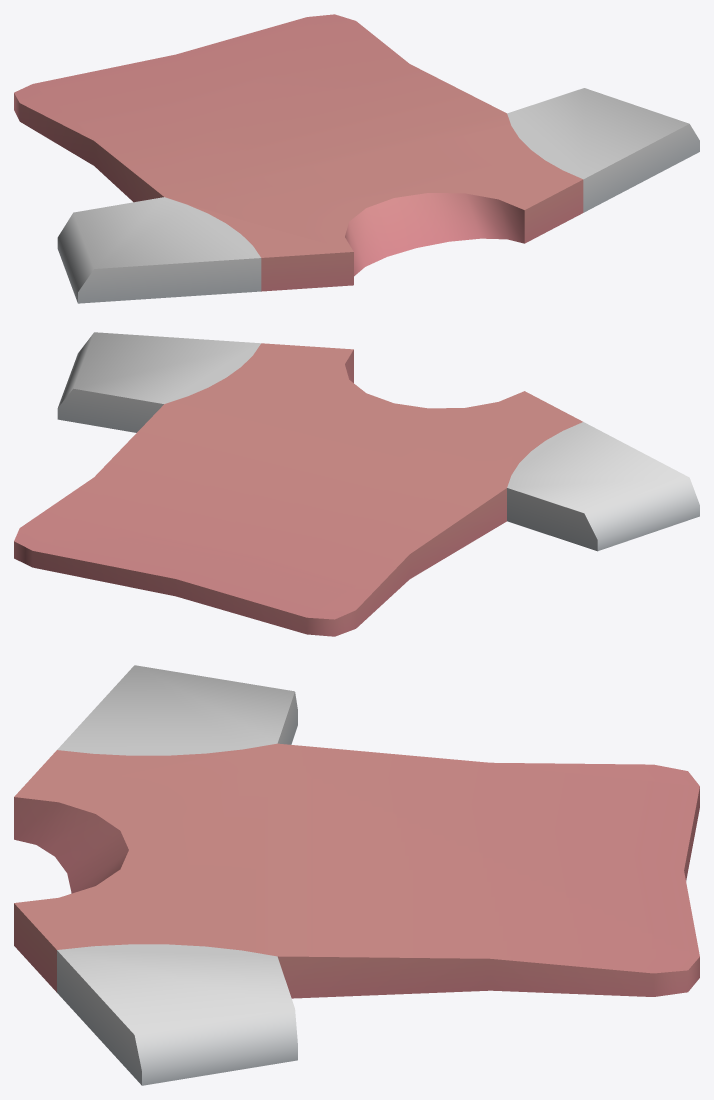
The model's file is clothing-floor-shirt.glb.
3 views of the same model, one above another, from view 1: azimuth 30°, elevation 25°; view 2: azimuth 150°, elevation 25°; view 3: azimuth 270°, elevation 25° (orthographic). The views are drawn at different scales.
Visible parts, largest first — view 1: clothing-floor-shirt; view 2: clothing-floor-shirt; view 3: clothing-floor-shirt.
Part boxes in pixels (x1,y1,x2,y2): clothing-floor-shirt: (14,14,699,303); clothing-floor-shirt: (14,332,699,636); clothing-floor-shirt: (14,665,699,1085).
Bounding box in the file's own units: 0.7808 × 0.0402 × 0.586.
